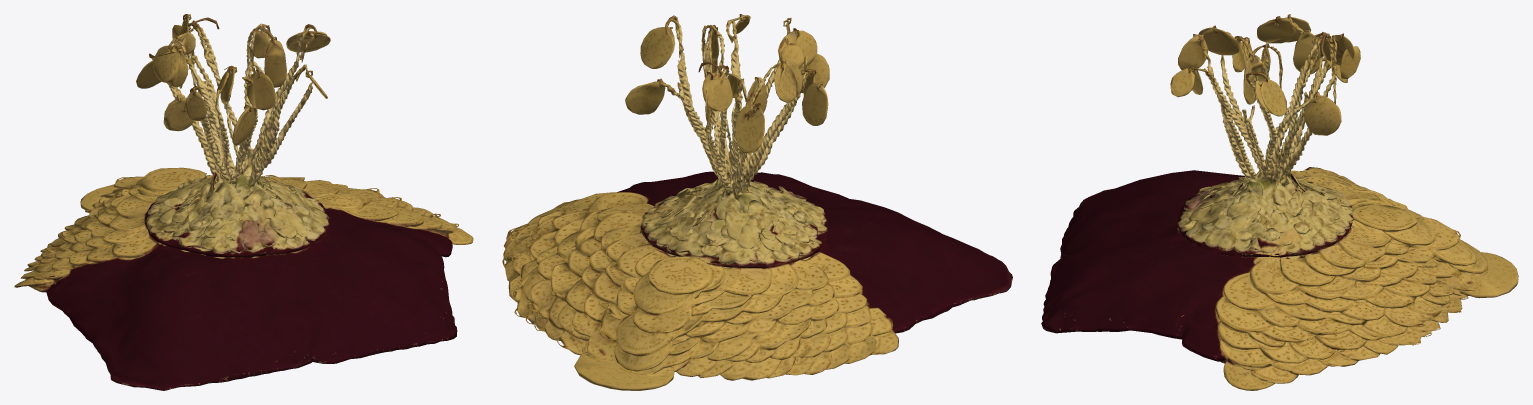
The model's file is ukras-dukati.glb.
The picture shows the model from 3 angles, left to right: view 1: azimuth 30°, elevation 25°; view 2: azimuth 150°, elevation 25°; view 3: azimuth 270°, elevation 25°; orthographic projection. The views are drawn at different scales.
Size of the model in its own units: 1.9 by 1.11 by 1.9.
Materials: 1 (1 with a texture image).
